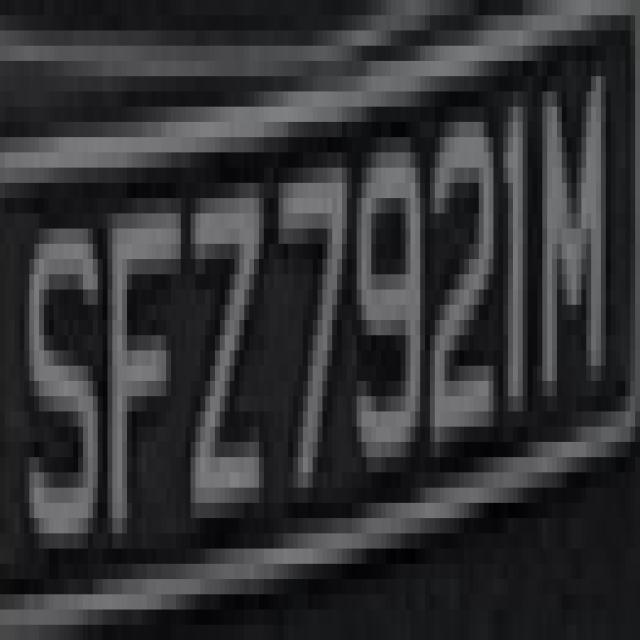1: (493, 76, 538, 457)
2: (411, 91, 494, 472)
7: (264, 152, 347, 518)
9: (342, 122, 430, 488)
F: (102, 168, 190, 533)
M: (523, 46, 620, 411)
S: (9, 183, 102, 579)
Z: (180, 168, 268, 533)
